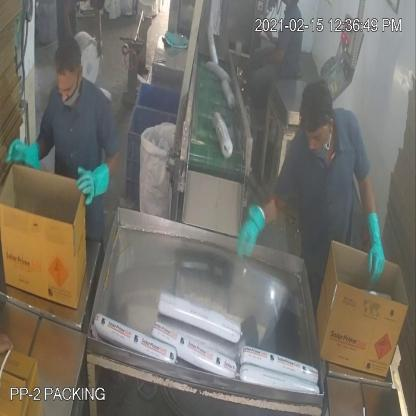glove: (354, 196, 389, 297), (232, 190, 274, 271), (3, 129, 48, 183), (72, 150, 113, 209)
no_glove: (254, 42, 286, 68), (60, 2, 80, 43), (94, 6, 106, 62)
